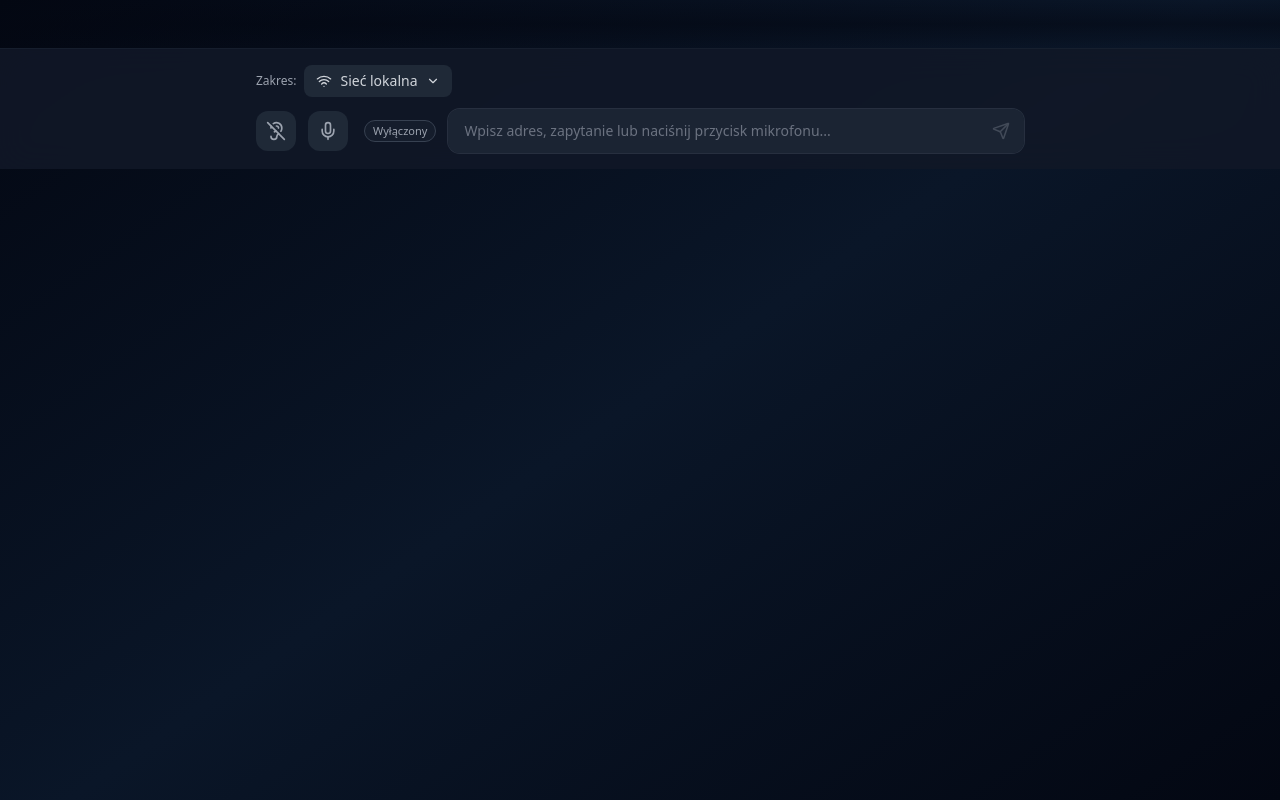
Test: Chat — browse flow › pokazuje treść po udanym browse
Step 1. Type "https://onet.pl" into the field with placeholder "Wpisz adres, zapytanie lub naciśnij przycisk mikrofonu..." → (736, 131), box x1=448 y1=109 x2=1024 y2=153
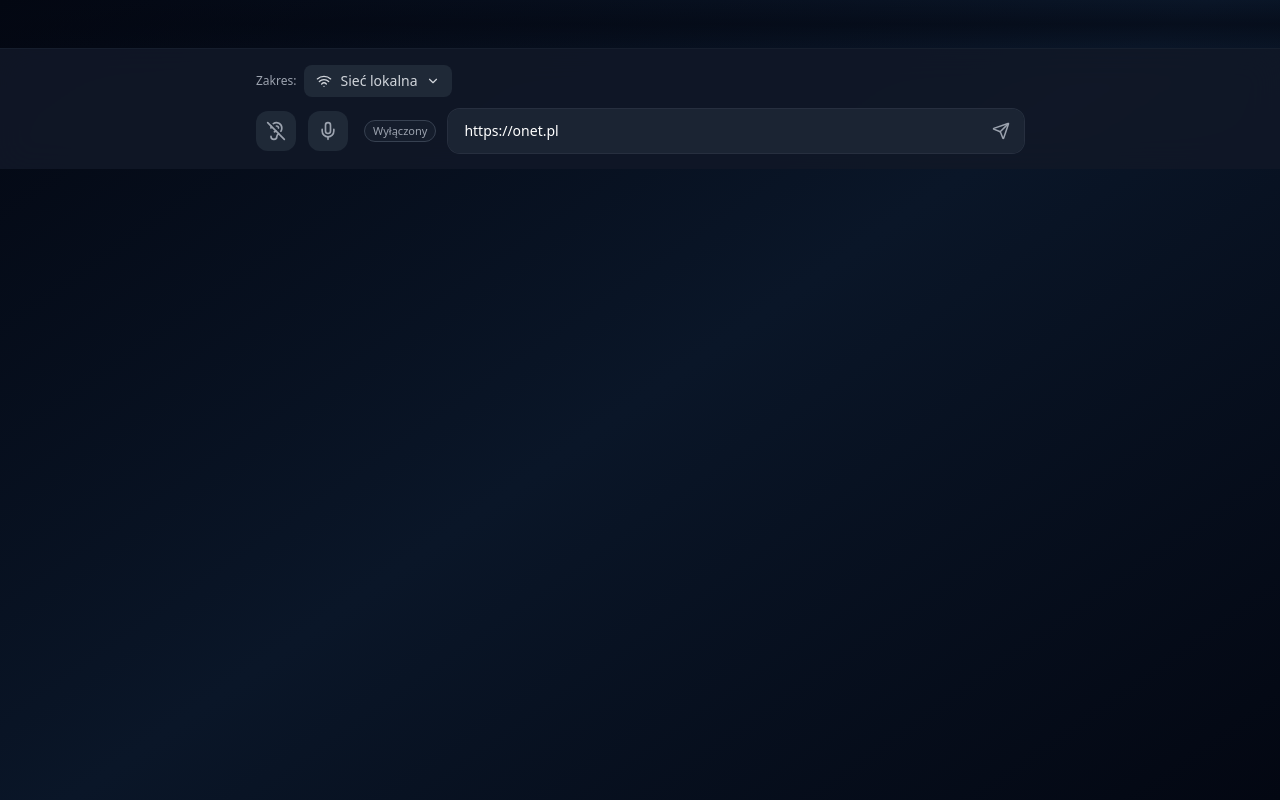
Step 2. Press Enter in the field with placeholder "Wpisz adres, zapytanie lub naciśnij przycisk mikrofonu...", box x1=448 y1=109 x2=1024 y2=153
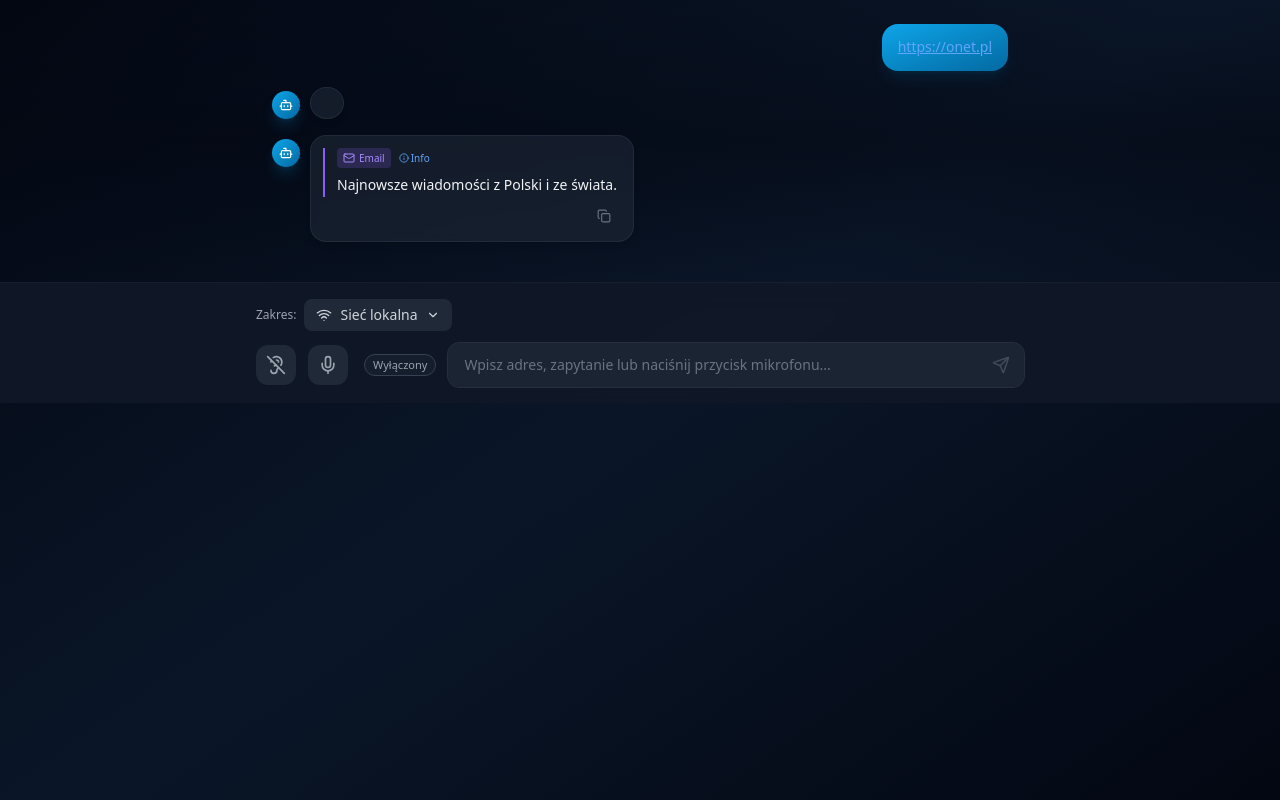
Expected: the text "Najnowsze wiadomości z Polski i ze świata." is shown, x1=337 y1=174 x2=617 y2=197
